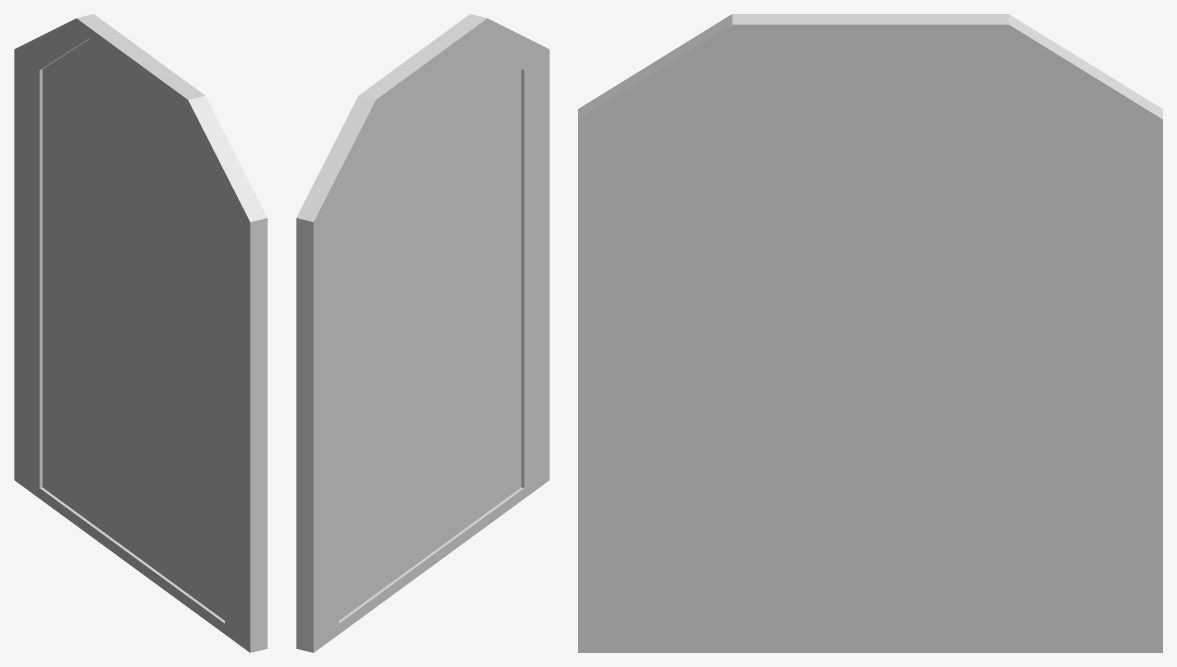
Rendered from EnemyContainerDoor.fbx.
3 views of the same model, side by side, from view 1: azimuth 30°, elevation 25°; view 2: azimuth 150°, elevation 25°; view 3: azimuth 270°, elevation 25° (orthographic). The views are drawn at different scales.
Visible parts, largest first — view 1: WallTrap.016; view 2: WallTrap.016; view 3: WallTrap.016.
Part boxes in pixels (x1=…): WallTrap.016: x1=14, y1=14, x2=267, y2=652; WallTrap.016: x1=296, y1=14, x2=549, y2=652; WallTrap.016: x1=578, y1=14, x2=1162, y2=652.
Bounding box in the file's own units: 18.01 × 423 × 502.
